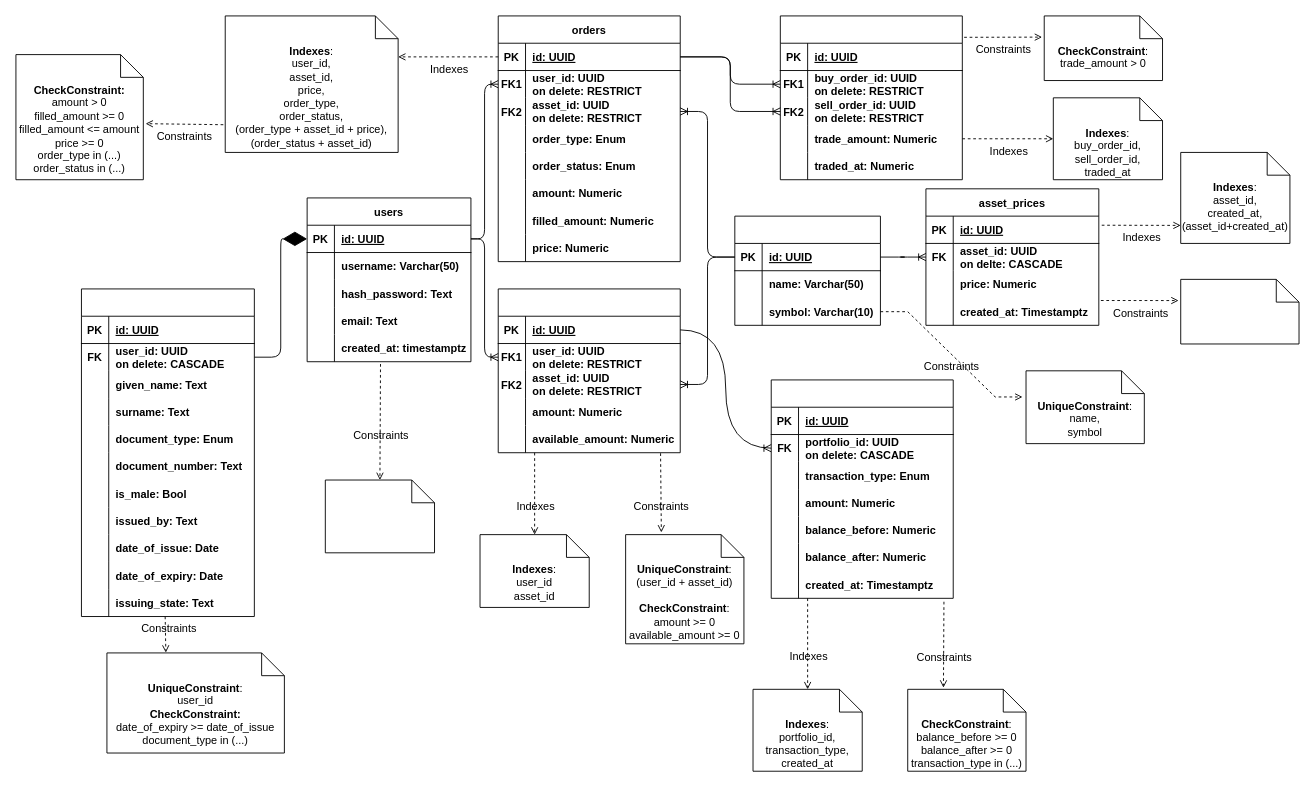
Some shapes in this 1315 by 787 pixel diagram are drawn without their labels. The shapes that lost their labels are listed below. From the top down, each one's box as (x1, y1, x2, y2) in pixels, then its label:
(779, 15, 962, 180): Trades
(734, 215, 880, 325): assets
(1180, 278, 1299, 344): CheckConstraint : price >= 0
(497, 288, 680, 453): portfolios
(81, 288, 254, 617): user_verification_docs
(770, 379, 953, 598): portfolio_transactions
(324, 479, 435, 553): UniqueConstraint : email, username
